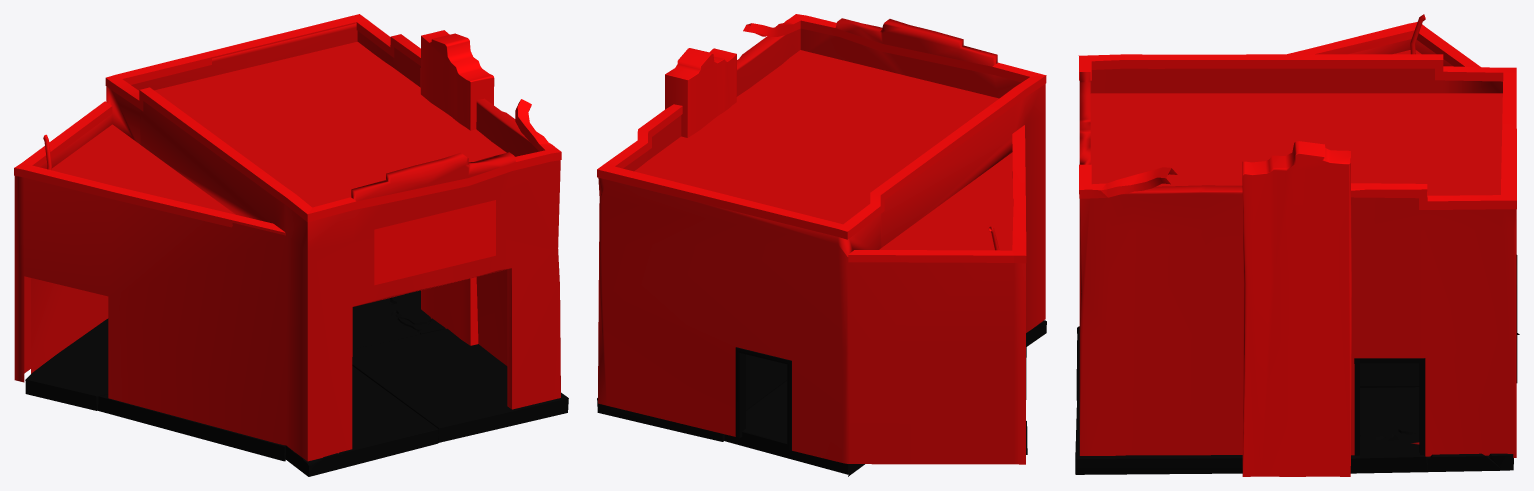
File: SM_GasStation_Garage02.fbx
The picture shows the model from 3 angles, left to right: view 1: azimuth 30°, elevation 25°; view 2: azimuth 150°, elevation 25°; view 3: azimuth 270°, elevation 25°; orthographic projection. The views are drawn at different scales.
Parts seen in each view (by area): view 1: SM_GasStation_Garage01.mo; view 2: SM_GasStation_Garage01.mo; view 3: SM_GasStation_Garage01.mo.
Boxes of the visible parts, bbox=[...] form: SM_GasStation_Garage01.mo: bbox=[14, 14, 568, 476]; SM_GasStation_Garage01.mo: bbox=[597, 14, 1046, 476]; SM_GasStation_Garage01.mo: bbox=[1075, 14, 1519, 476].
Bounding box in the file's own units: 1271 × 1122 × 907.
